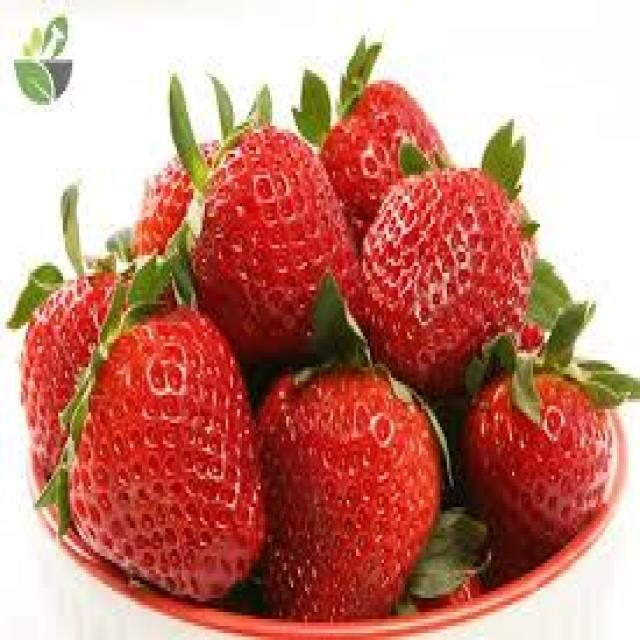Fruta sana: (252, 346, 444, 619), (81, 326, 272, 590), (195, 107, 369, 370), (365, 163, 540, 374), (449, 336, 606, 546), (8, 252, 148, 467), (299, 54, 463, 226), (111, 136, 238, 262)
